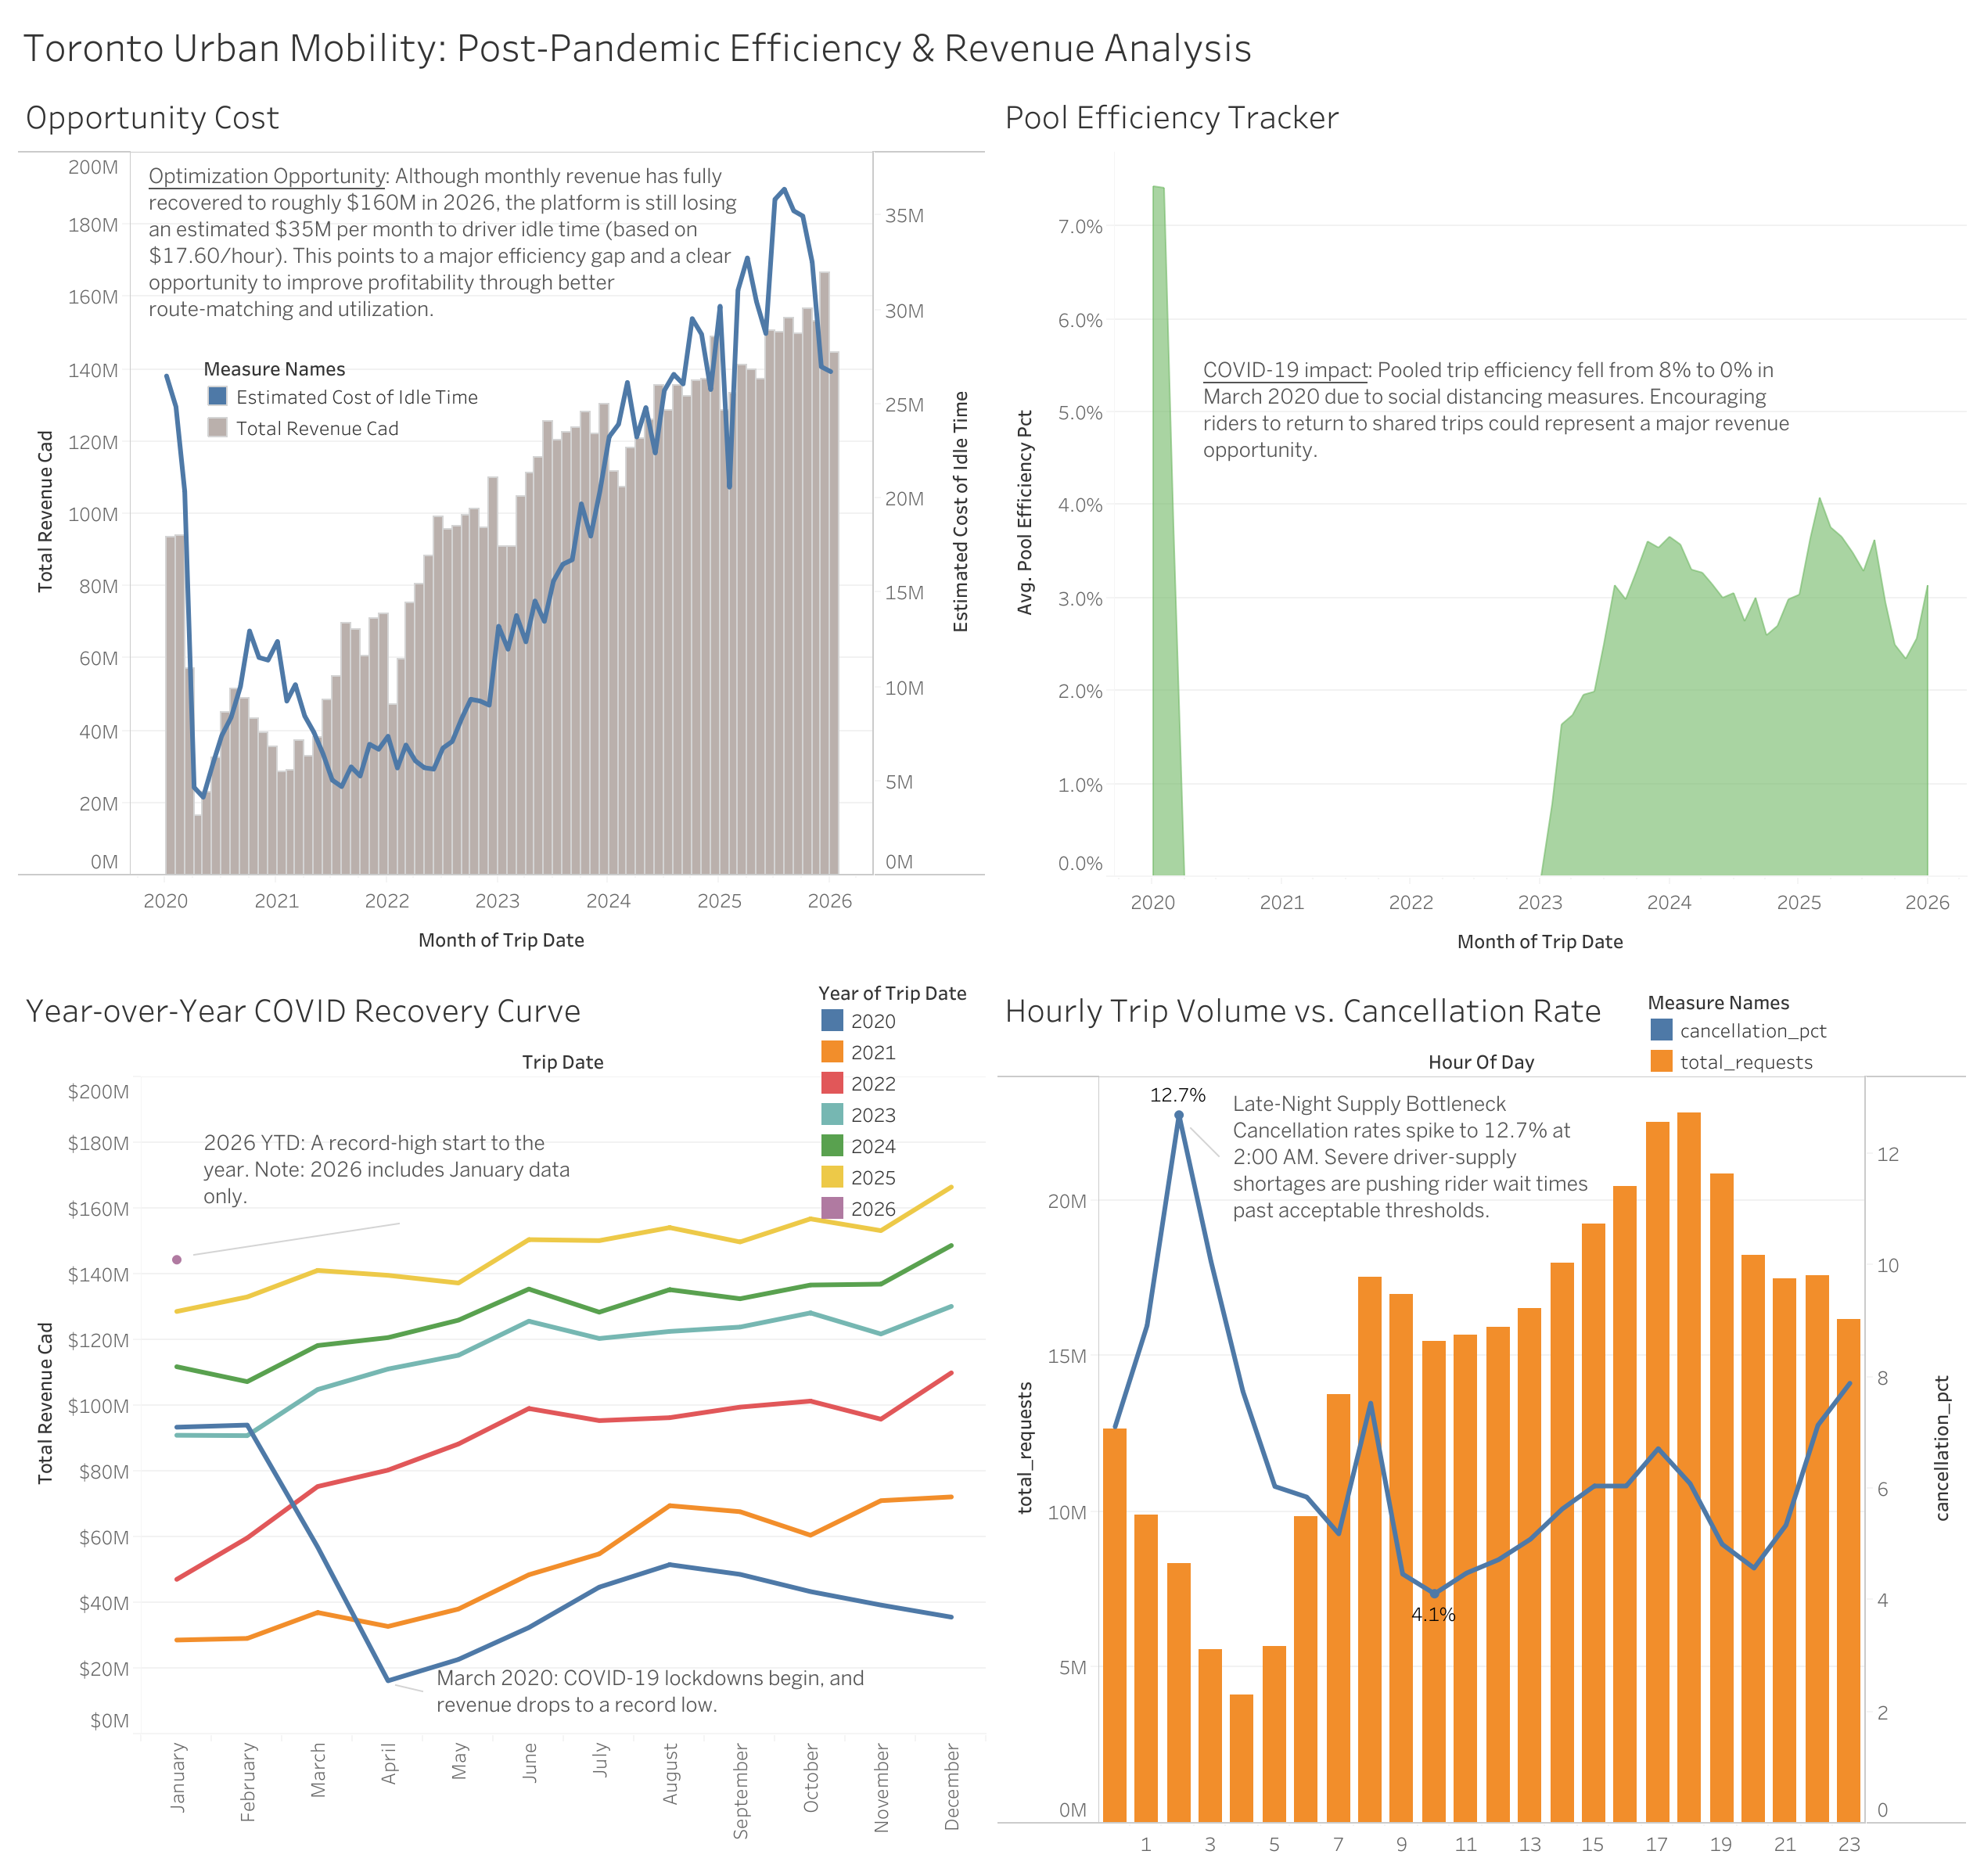

What the dashboard file says about the page in this screenshot:
{"tool":"tableau","page":{"name":"Toronto Urban Mobility: Post-Pandemic Efficiency & Revenue Analysis","canvas":[1269,1200],"ordinal":0},"visuals":[{"type":"title","box":[8,8,1253,42]},{"type":"worksheet","title":"Opportunity Cost","mark":"Bar","rows":["total_revenue_cad","Calculation_0585133975113729"],"cols":["trip_date"],"box":[8,50,626.4,570.9]},{"type":"worksheet","title":"Pool Efficiency Tracker","mark":"Area","rows":["pool_efficiency_pct"],"cols":["trip_date"],"box":[634.4,50,626.6,570.9]},{"type":"legend","title":"Opportunity Cost","param":"[federated.14huhga1r0gsak11xtwua1230xz6].[:Measure Names]","box":[129,224,181,58]},{"type":"worksheet","title":"Year-over-Year COVID Recovery Curve","mark":"Automatic","rows":["total_revenue_cad"],"cols":["trip_date"],"box":[8,620.9,626.4,571.1]},{"type":"worksheet","title":"Hourly Trip Volume vs. Cancellation Rate","mark":"Bar","rows":["total_requests","cancellation_pct"],"cols":["hour_of_day"],"box":[634.4,620.9,626.6,571.1]},{"type":"legend","title":"Year-over-Year COVID Recovery Curve","param":"[federated.14huhga1r0gsak11xtwua1230xz6].[yr:trip_date:ok]","box":[522,623,103,159]},{"type":"legend","title":"Hourly Trip Volume vs. Cancellation Rate","param":"[federated.0sdjk831na1oy612wtc3612s8mwq].[:Measure Names]","box":[1052,629,140,58]}]}

Visuals, with their boxes in screenshot pixels (x1, y1, x2, y2), scaled from the page's 1269x1200 canvas onto the 1984x1876 screenshot:
title: <region>13, 13, 1971, 78</region>
"Opportunity Cost" worksheet (Bar marks): <region>13, 78, 992, 971</region>
"Pool Efficiency Tracker" worksheet (Area marks): <region>992, 78, 1971, 971</region>
"Opportunity Cost" legend: <region>202, 350, 485, 441</region>
"Year-over-Year COVID Recovery Curve" worksheet: <region>13, 971, 992, 1863</region>
"Hourly Trip Volume vs. Cancellation Rate" worksheet (Bar marks): <region>992, 971, 1971, 1863</region>
"Year-over-Year COVID Recovery Curve" legend: <region>816, 974, 977, 1223</region>
"Hourly Trip Volume vs. Cancellation Rate" legend: <region>1644, 983, 1864, 1074</region>
